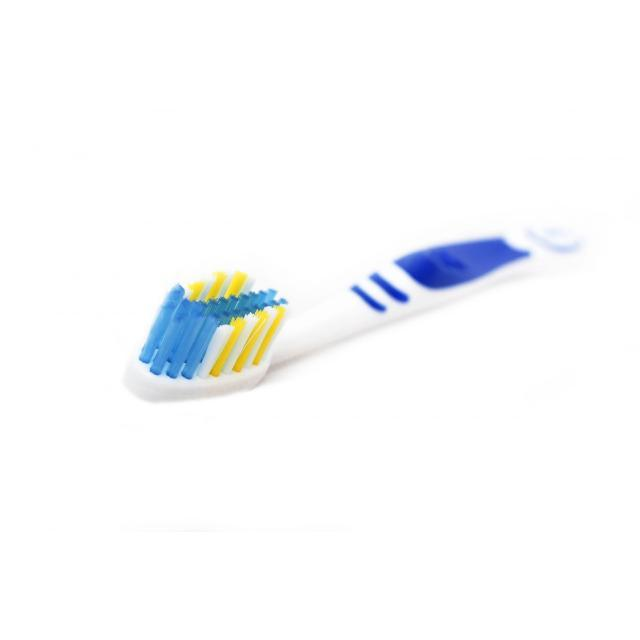toothbrush: (115, 193, 492, 439)
